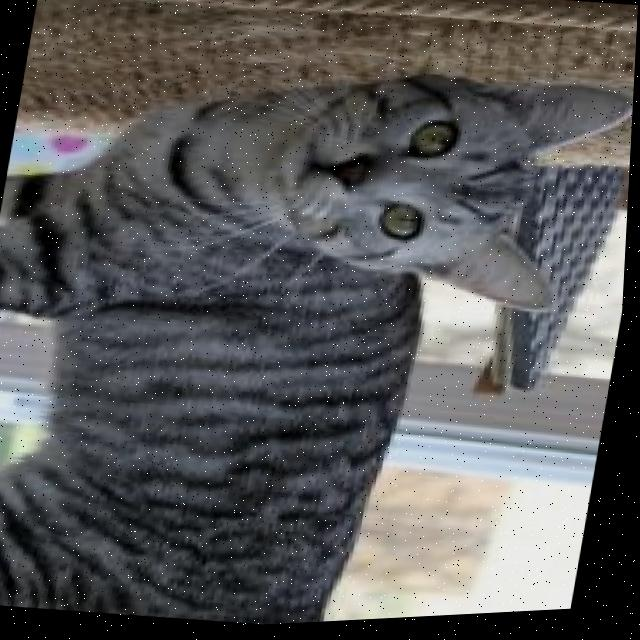Egyptian Mau: (0, 18, 638, 640)
